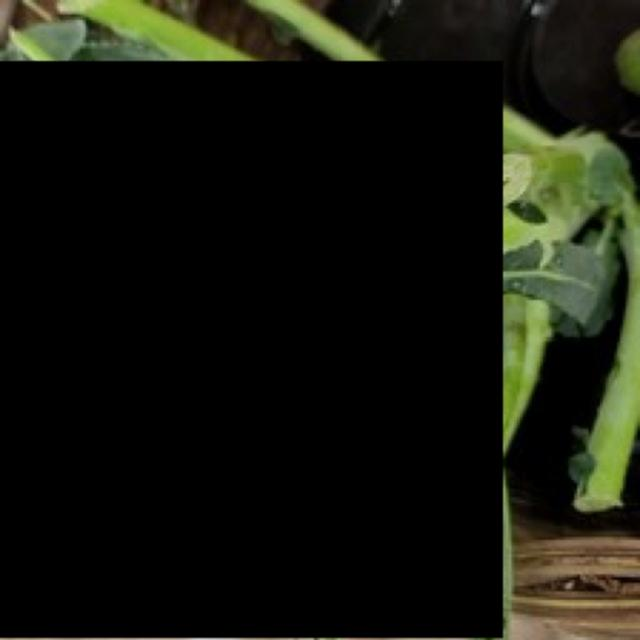Broccoli: (0, 61, 503, 638)
